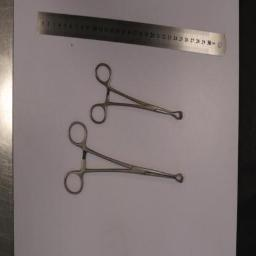Babcock Tissue Forceps: (91, 62, 183, 124)
